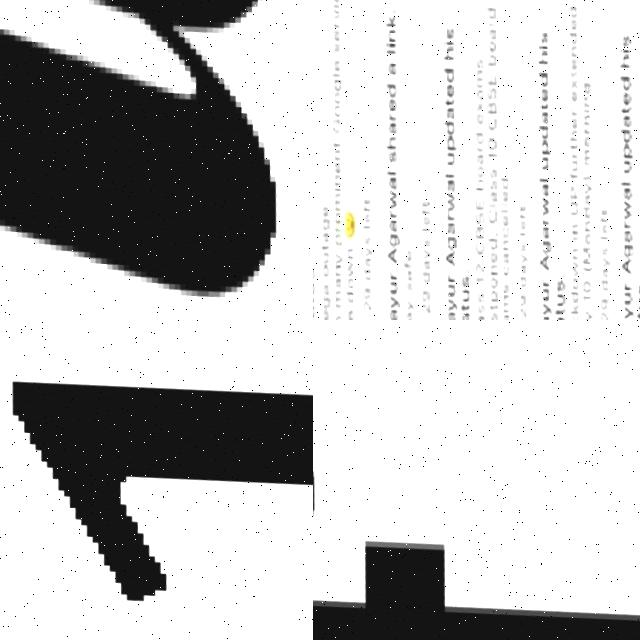0: (571, 284, 582, 298), (479, 140, 490, 153)
1: (0, 320, 313, 640), (481, 156, 489, 163), (572, 299, 580, 306), (467, 280, 474, 287)
2: (465, 265, 476, 278), (354, 301, 362, 312), (411, 305, 419, 316), (508, 310, 516, 320), (589, 314, 597, 320)
9: (410, 291, 421, 304), (508, 297, 517, 310), (354, 288, 362, 301), (589, 303, 597, 316)
F: (313, 405, 640, 640)
U: (0, 0, 313, 320)
